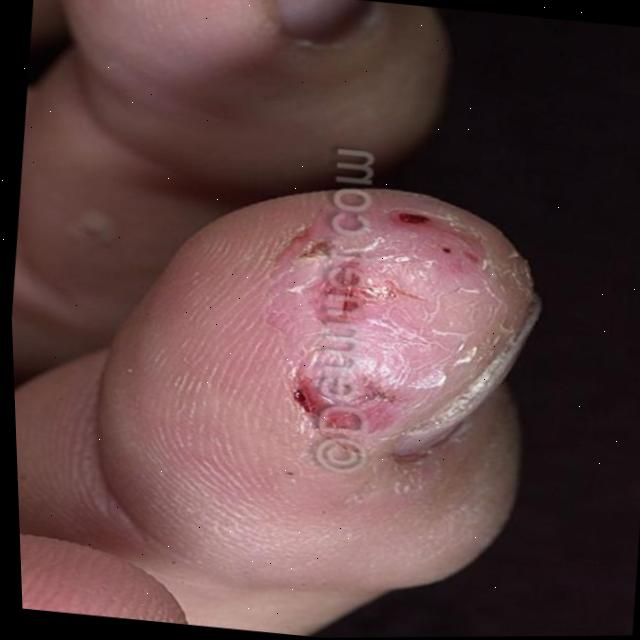Eczema: (261, 203, 475, 425)
